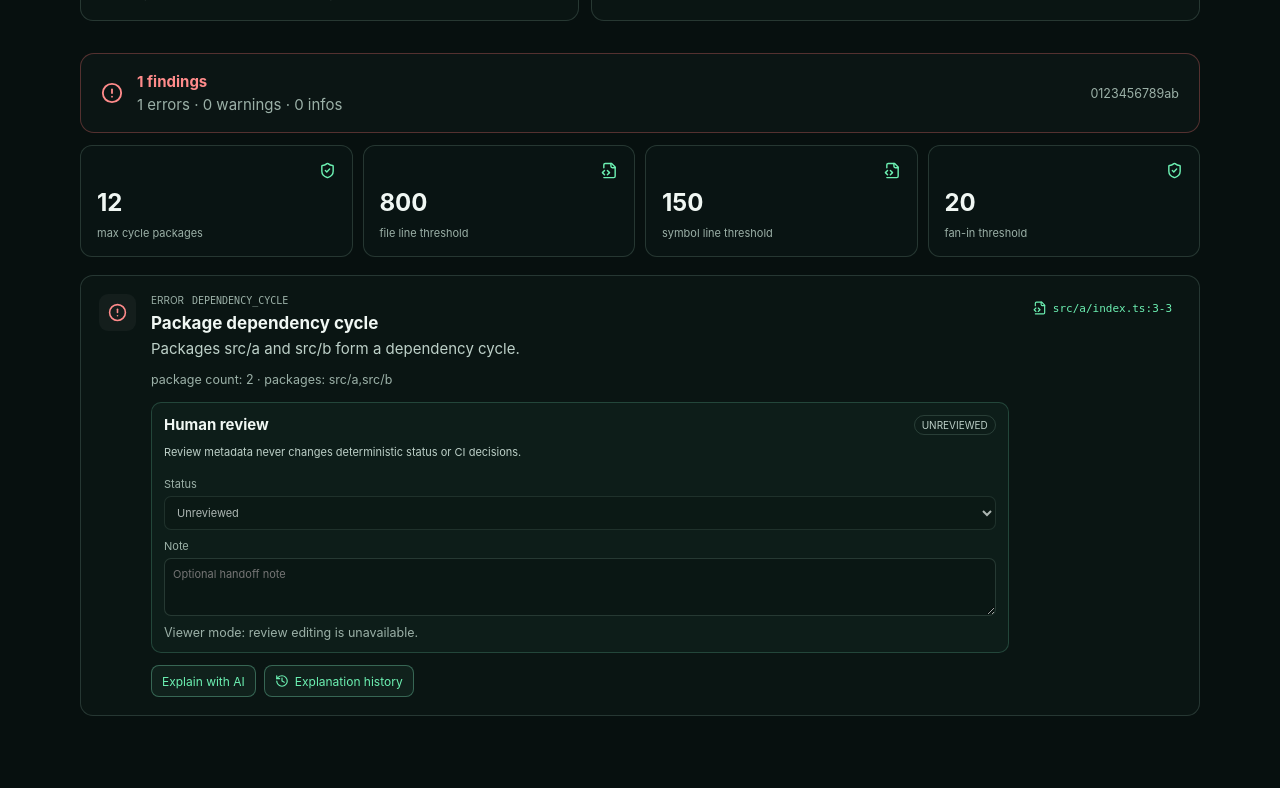
Test case: GuardrailsPanel › shows history request IDs while preserving the deterministic Finding
(page scrolled)
Click the button "Explanation history" at (339, 681), box 264,665 -> 414,697
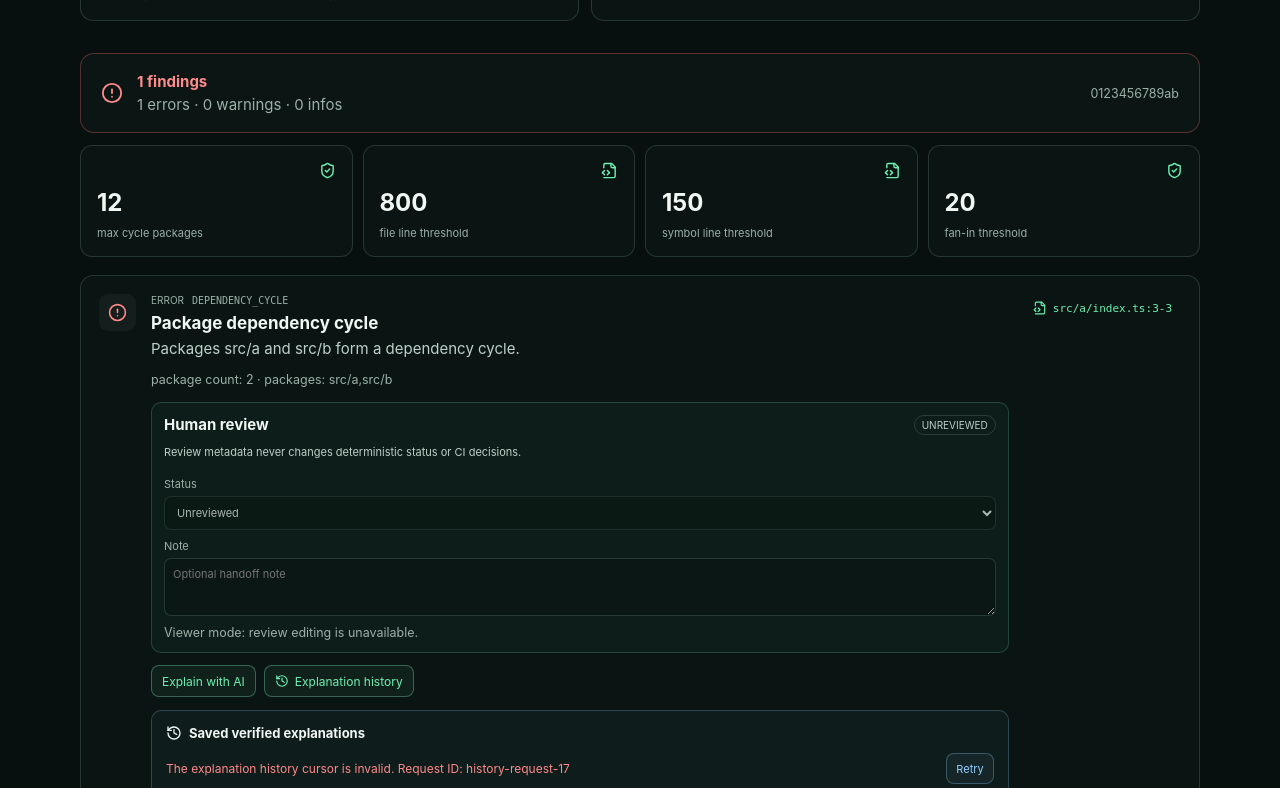
Check: the heading "Package dependency cycle" is shown, box 151,313 -> 378,333
Check: the text "The explanation history cursor is invalid. Request ID: history-request-17" is shown, box 166,761 -> 570,776
